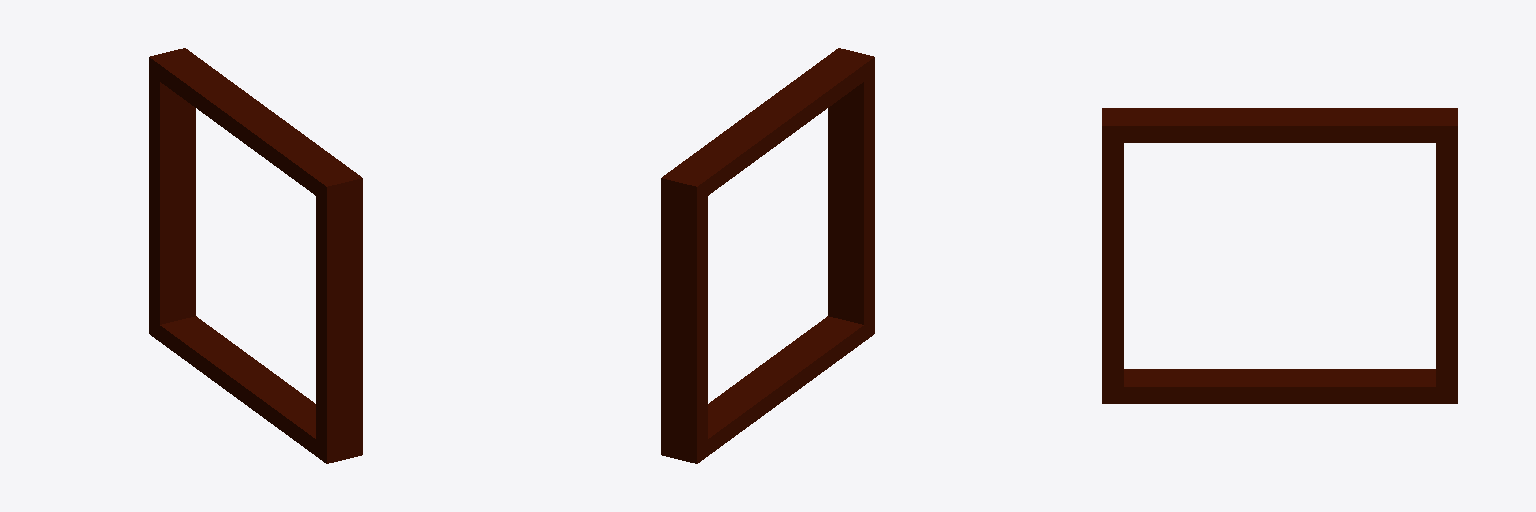
File: frame.obj
The picture shows the model from 3 angles: view 1: azimuth 30°, elevation 25°; view 2: azimuth 150°, elevation 25°; view 3: azimuth 270°, elevation 25°; orthographic projection.
Visible parts, largest first — view 1: frame; view 2: frame; view 3: frame.
Part boxes in pixels (x1,y1,x2,y2): frame: (149,48,362,463); frame: (661,48,874,463); frame: (1102,108,1457,403).
Size of the model in its own units: 15.23 by 111 by 129.